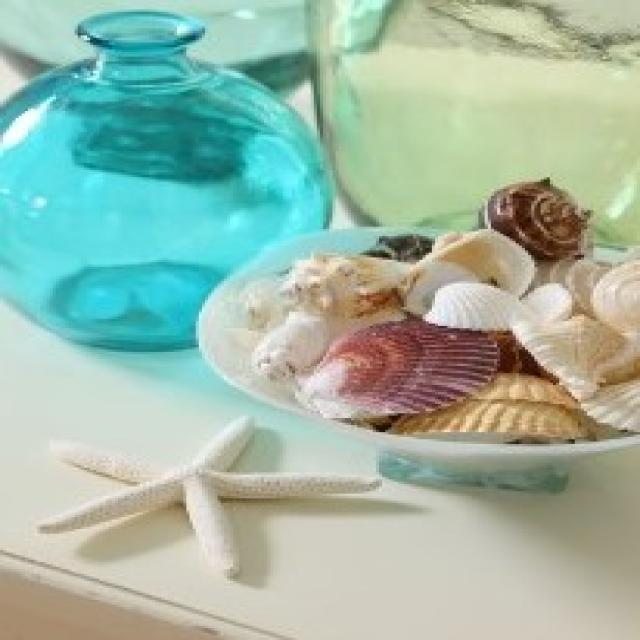electronic: (0, 8, 356, 363)
